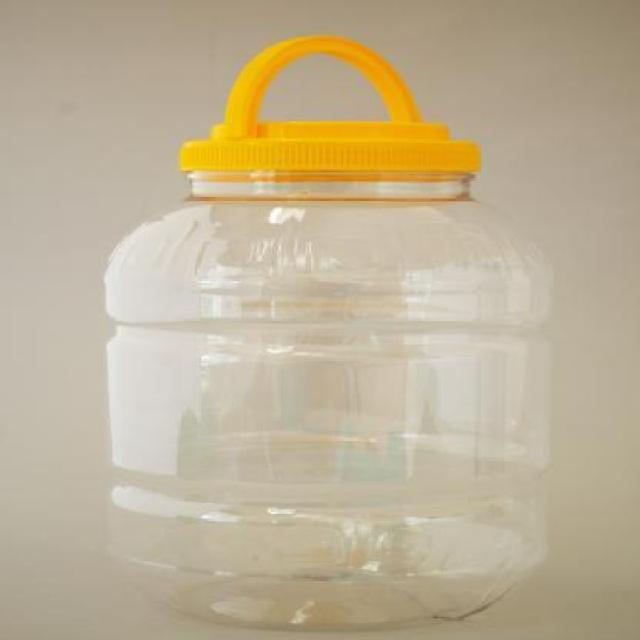bottle: (71, 17, 595, 628)
